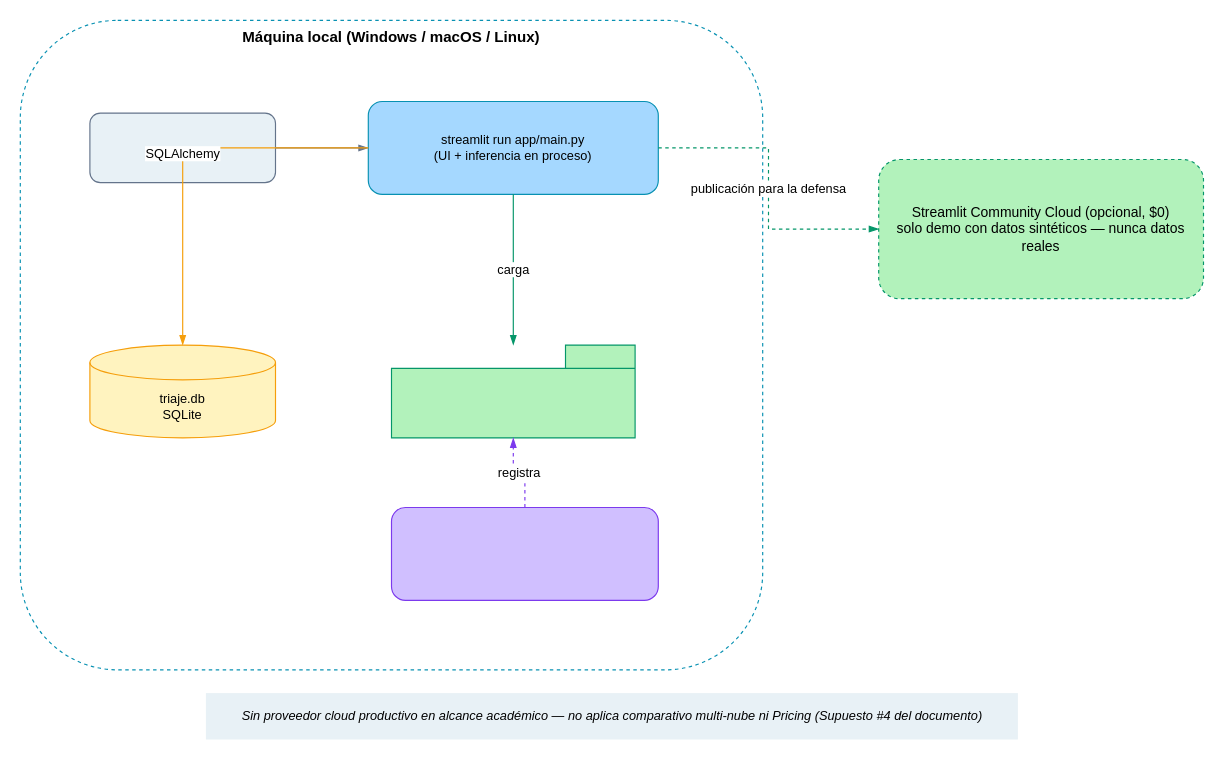
This 1224x760 diagram has some shape labels left out. The centre of each missing label's shape, as x and y in pixels:
artifacts/models + mlruns (modelos vX + tracking): (x=512, y=391)
Entrenamiento offline notebooks + scripts (CPU local): (x=524, y=553)
venv Python 3.12: (x=182, y=147)
